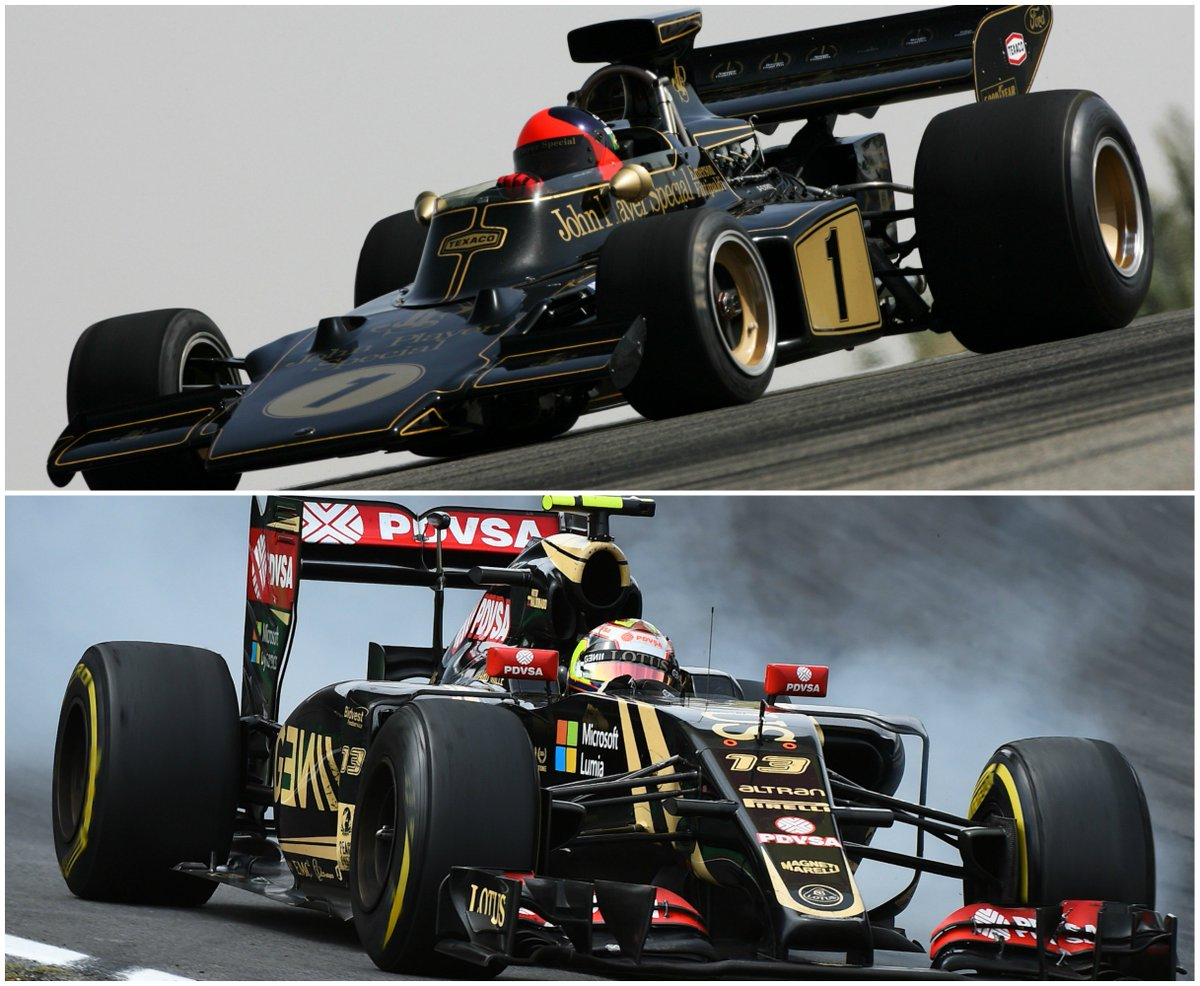f1_car: (38, 495, 1184, 978), (31, 8, 1165, 490)
helmet: (565, 610, 688, 712), (511, 99, 631, 193)
